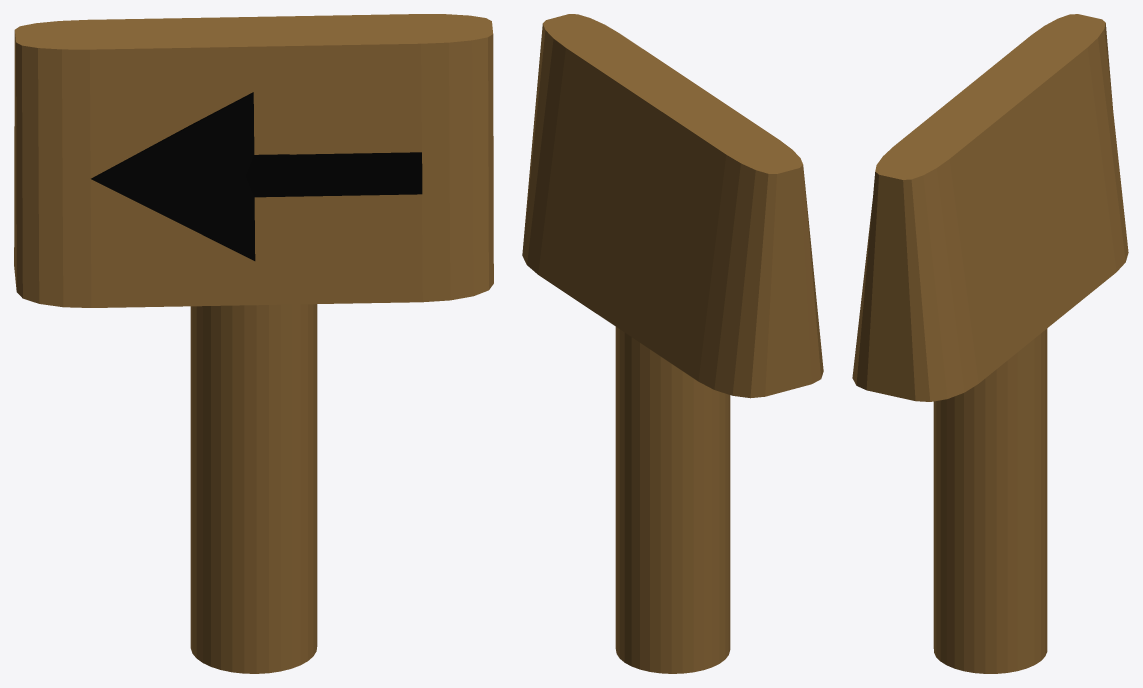
Rendered from Oklu Tabela.fbx.
The picture shows the model from 3 angles, left to right: view 1: azimuth 30°, elevation 25°; view 2: azimuth 150°, elevation 25°; view 3: azimuth 270°, elevation 25°; orthographic projection. The views are drawn at different scales.
Parts seen in each view (by area): view 1: Text.001; view 2: Text.001; view 3: Text.001.
Part boxes in pixels (bbox=[...]): Text.001: bbox=[14, 14, 493, 673]; Text.001: bbox=[522, 14, 823, 673]; Text.001: bbox=[852, 14, 1128, 673].
Size of the model in its own units: 683 by 1016 by 460.
